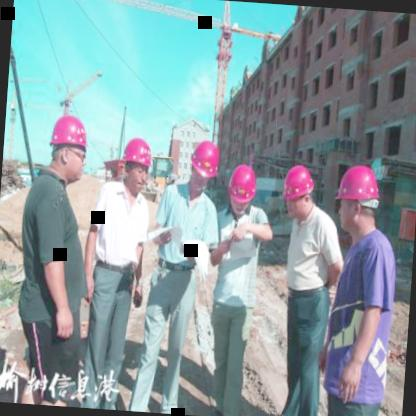helmet: (330, 159, 386, 239), (43, 106, 94, 187), (116, 132, 157, 198), (278, 161, 320, 221), (186, 136, 224, 195), (226, 162, 260, 214)
